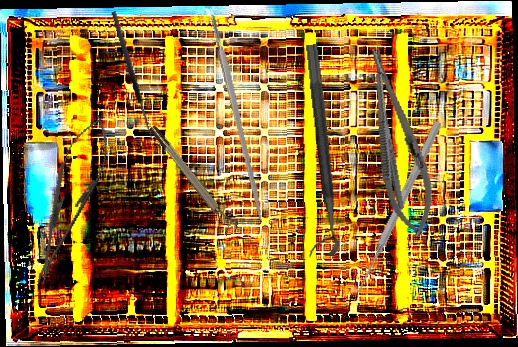Fixation Ring: (287, 43, 341, 259), (147, 119, 241, 237)
Hook Surgical: (109, 9, 162, 140)
Needle Holder: (19, 108, 121, 291), (352, 42, 444, 241)
Pusher: (353, 119, 444, 295)
Scalpel Handle: (209, 13, 266, 222)
Surgical Spoon: (371, 74, 406, 210)
